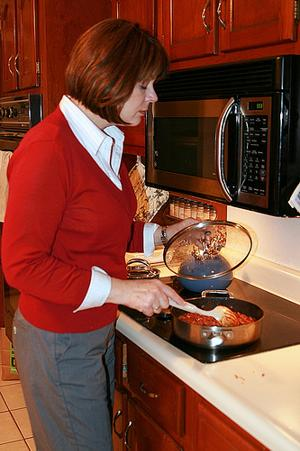person: (2, 17, 187, 449)
